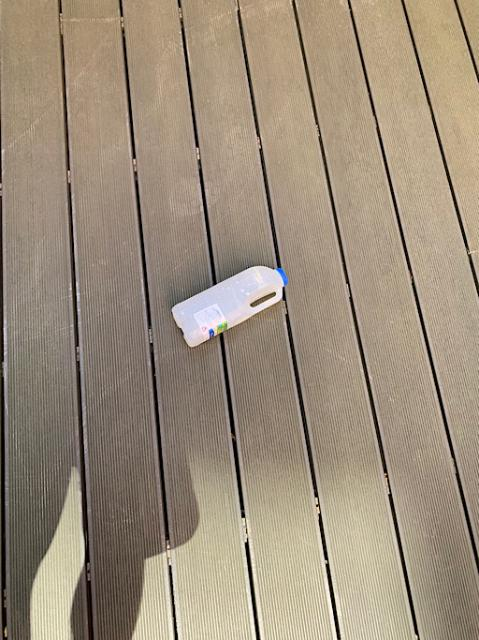plastic: (171, 265, 286, 345)
